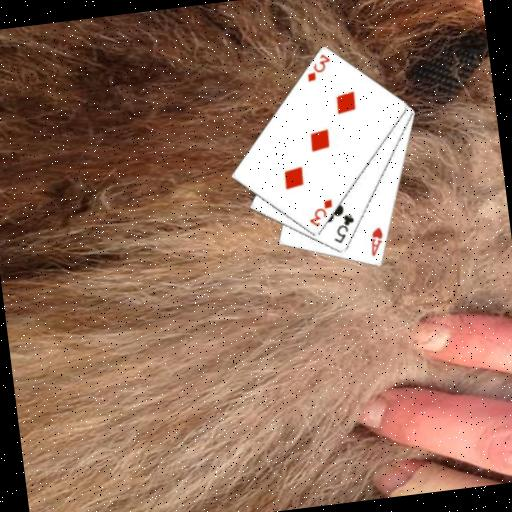3D: (304, 196, 337, 230), (302, 51, 334, 84)
5C: (329, 211, 359, 246)
AH: (365, 225, 387, 259)
